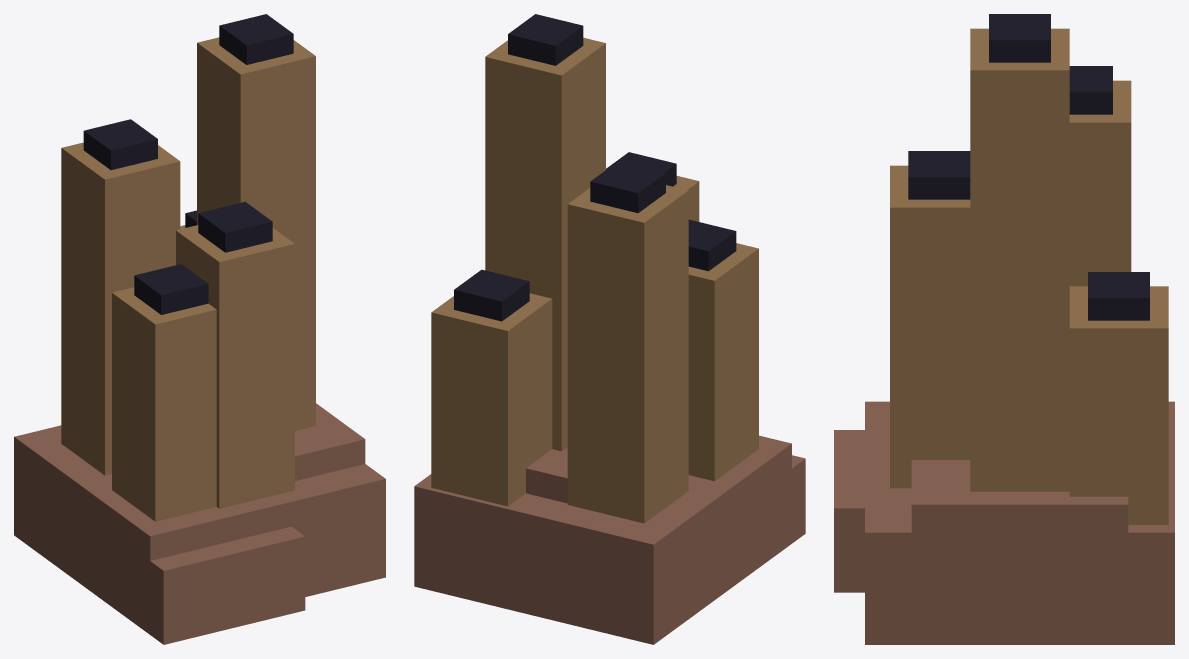
File: TubeCoral_Cyan.obj
3 views of the same model, side by side, from view 1: azimuth 30°, elevation 25°; view 2: azimuth 150°, elevation 25°; view 3: azimuth 270°, elevation 25° (orthographic). The views are drawn at different scales.
Parts seen in each view (by area): view 1: TubeCoral_Cyan; view 2: TubeCoral_Cyan; view 3: TubeCoral_Cyan.
Boxes of the visible parts, <box> form: TubeCoral_Cyan: <box>14,14,385,644</box>; TubeCoral_Cyan: <box>414,14,805,644</box>; TubeCoral_Cyan: <box>834,14,1174,644</box>.
Bounding box in the file's own units: 5 × 10.4 × 5.5.
